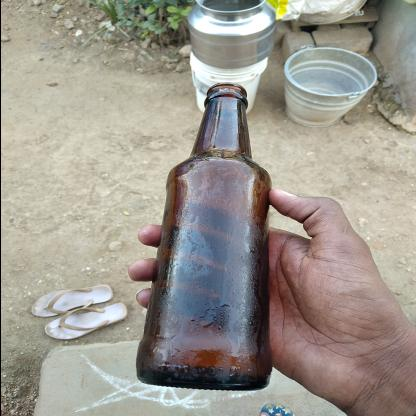bottle: (108, 110, 416, 214)
